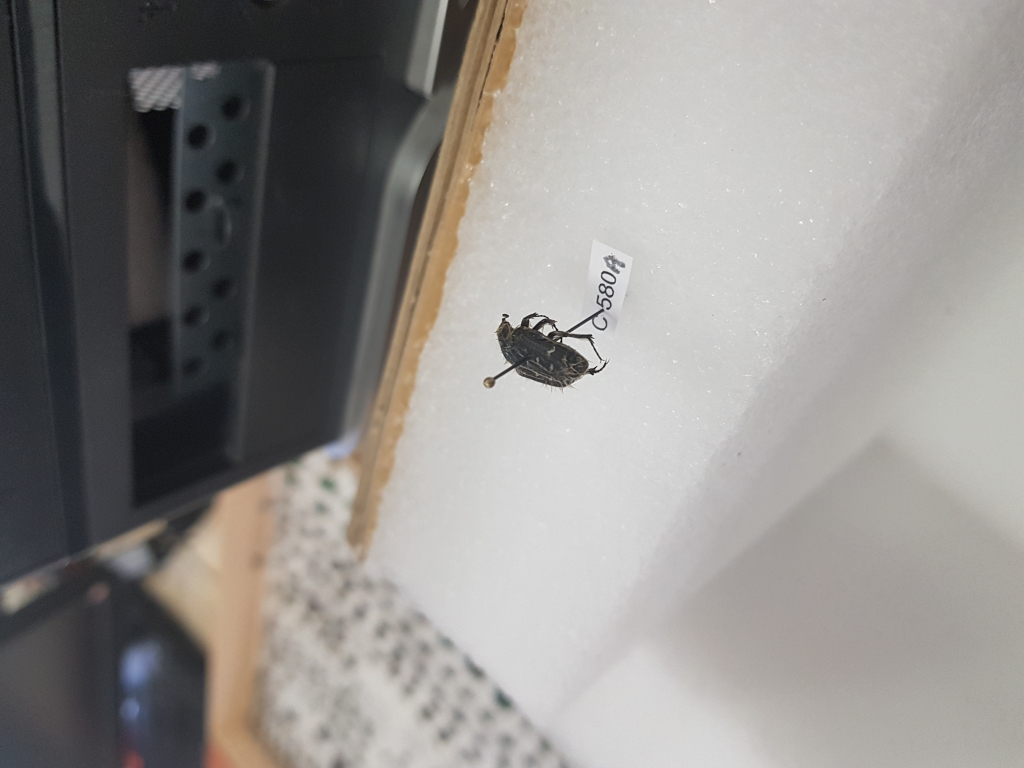Tropinota_hirta: (496, 304, 607, 387)
